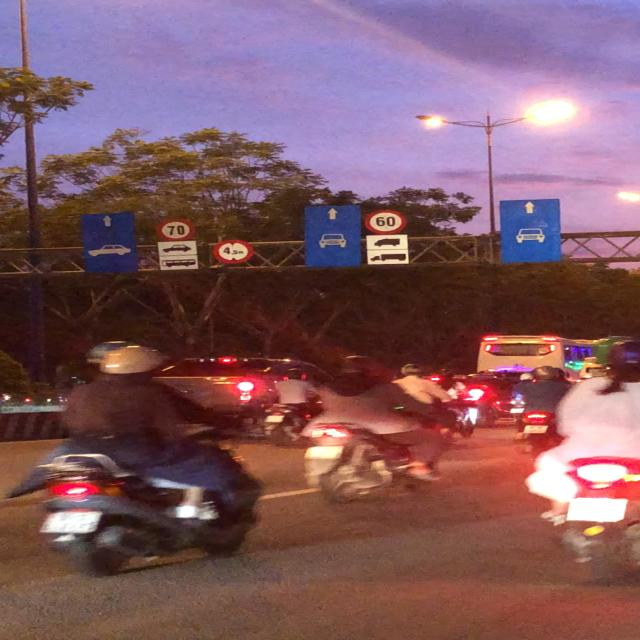Bien bao han che chieu cao: (213, 237, 258, 265)
Bien bao toc do toi da cho phep: (363, 208, 411, 234), (152, 217, 200, 240)
